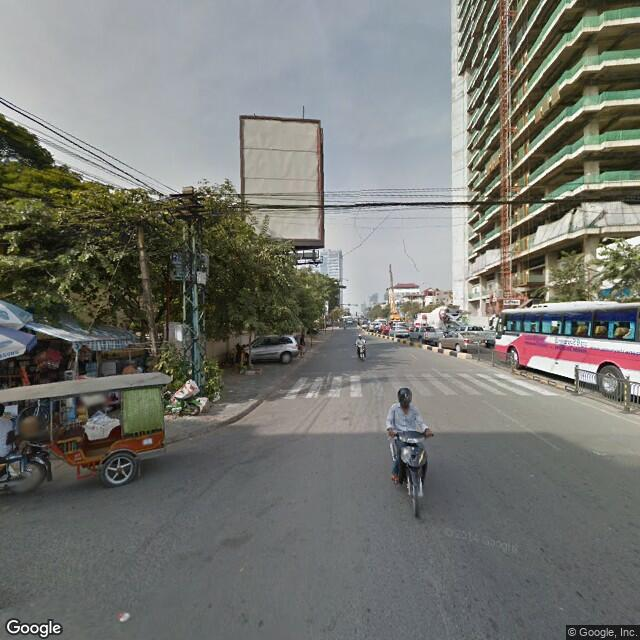litter: (111, 604, 134, 625)
